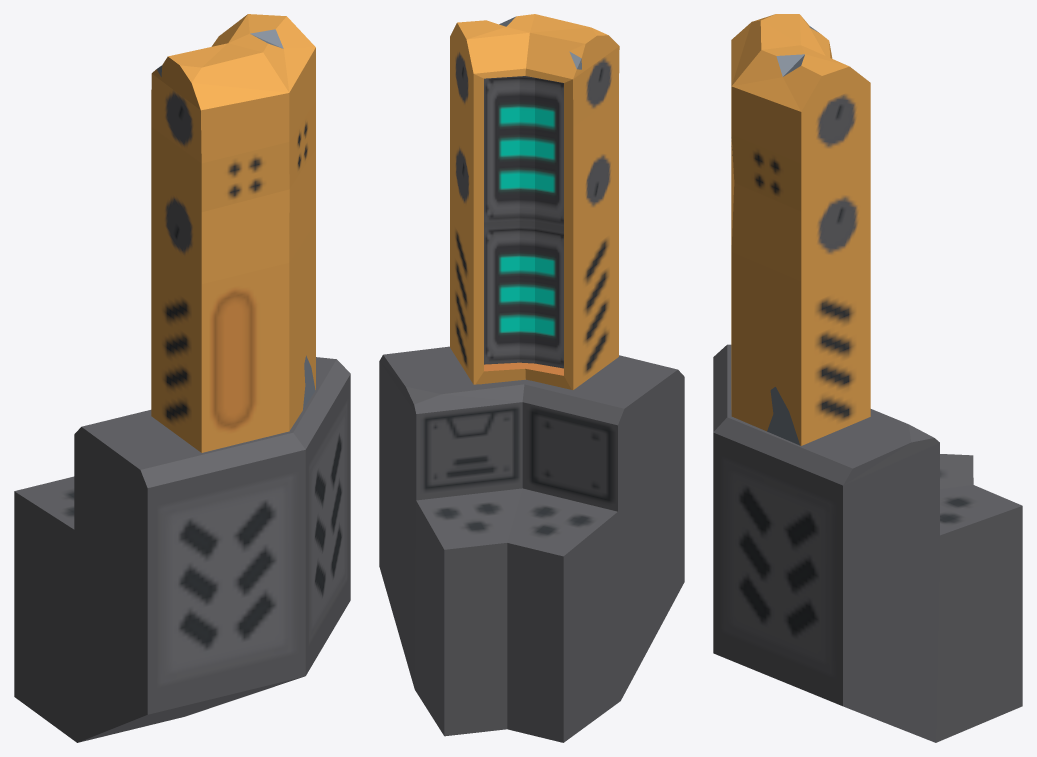
Rendered from SM_Bld_Railing_Pillar_45_Corner_Inner_01.fbx.
3 renders of one model, left to right at view 1: azimuth 30°, elevation 25°; view 2: azimuth 150°, elevation 25°; view 3: azimuth 270°, elevation 25°, orthographic. The views are drawn at different scales.
Visible parts, largest first — view 1: SM_Bld_Railing_Pillar_45_Corner_Inner_01; view 2: SM_Bld_Railing_Pillar_45_Corner_Inner_01; view 3: SM_Bld_Railing_Pillar_45_Corner_Inner_01.
Boxes of the visible parts, bbox=[...] form: SM_Bld_Railing_Pillar_45_Corner_Inner_01: bbox=[14, 14, 350, 742]; SM_Bld_Railing_Pillar_45_Corner_Inner_01: bbox=[379, 14, 684, 742]; SM_Bld_Railing_Pillar_45_Corner_Inner_01: bbox=[713, 14, 1022, 742].
Bounding box in the file's own units: 64.61 × 158 × 65.86.
